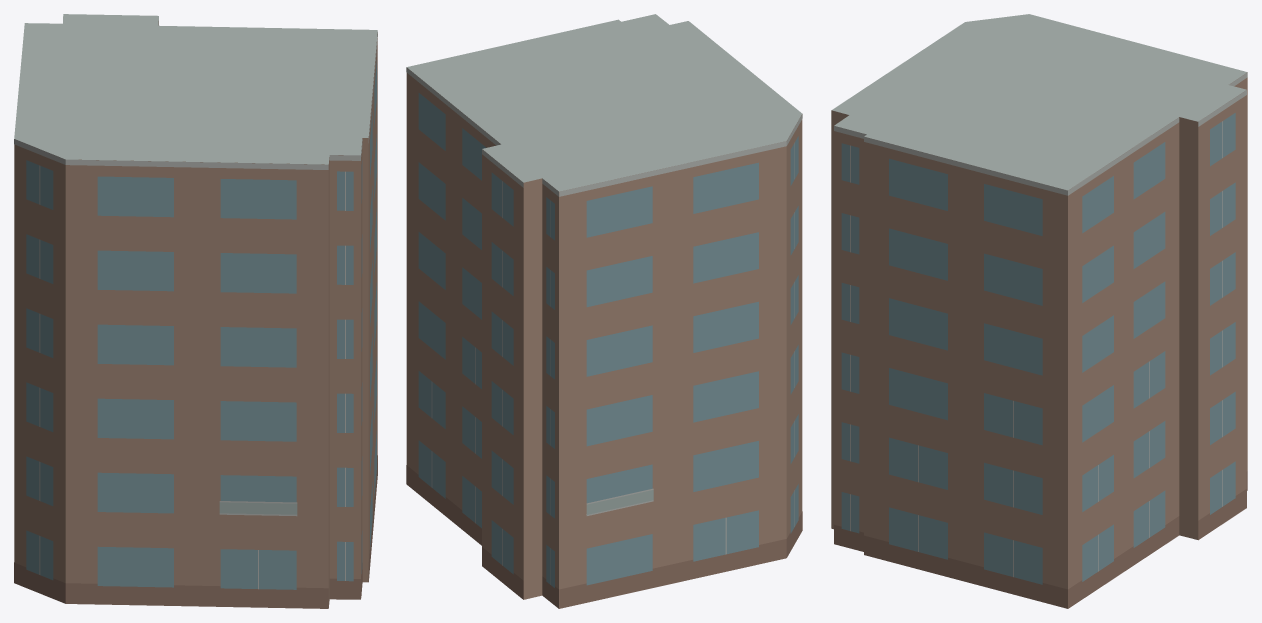
Rendered from survey-upis-32744269.glb.
3 views of the same model, side by side, from view 1: azimuth 30°, elevation 25°; view 2: azimuth 150°, elevation 25°; view 3: azimuth 270°, elevation 25° (orthographic). The views are drawn at different scales.
Visible parts, largest first — view 1: survey-upis-32744269.tmp; view 2: survey-upis-32744269.tmp; view 3: survey-upis-32744269.tmp.
Boxes of the visible parts, x1,y1,x2,y2 form: survey-upis-32744269.tmp: (14,14,377,608); survey-upis-32744269.tmp: (406,14,802,608); survey-upis-32744269.tmp: (831,14,1247,608).
Bounding box in the file's own units: 17.56 × 19.4 × 17.49.
